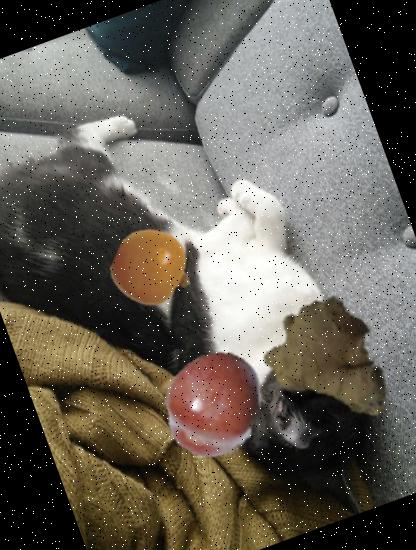Cherry: (141, 333, 282, 474)
Ginger: (243, 276, 416, 454)
Physalis: (102, 216, 206, 320)
